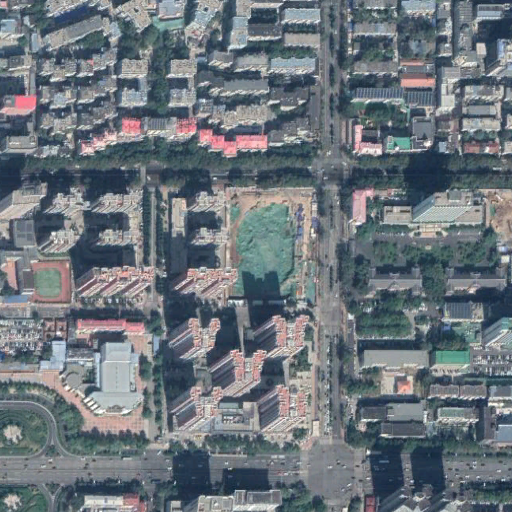cw: (227, 187, 315, 302)
